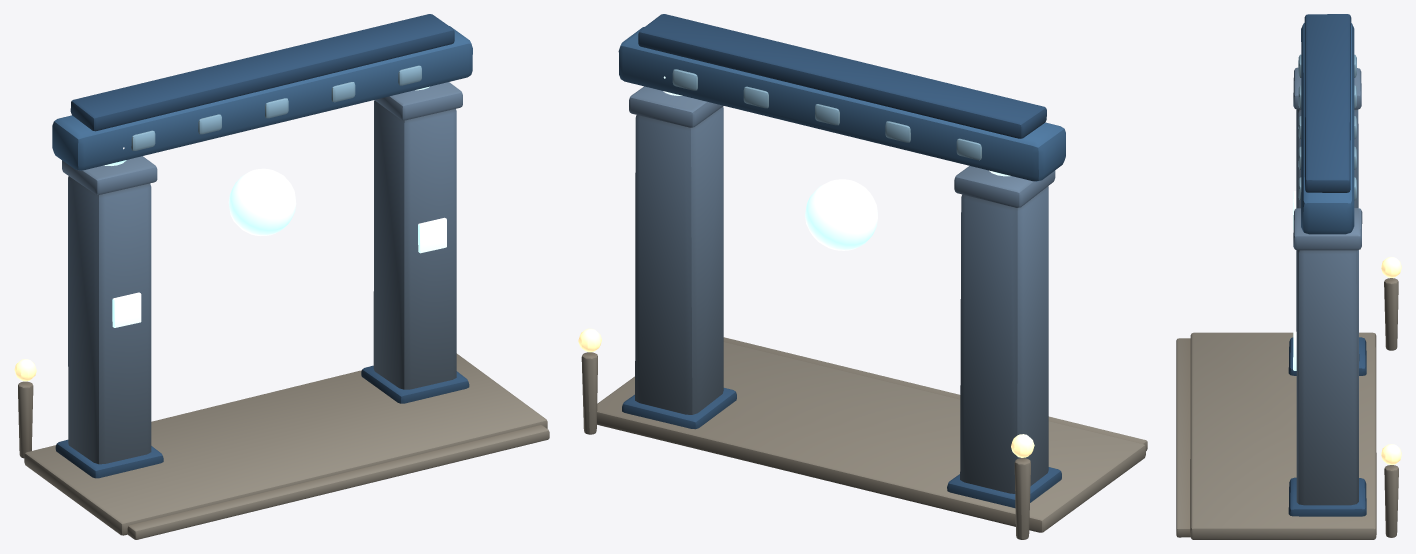
The picture shows the model from 3 angles, left to right: view 1: azimuth 30°, elevation 25°; view 2: azimuth 150°, elevation 25°; view 3: azimuth 270°, elevation 25°; orthographic projection. The views are drawn at different scales.
Parts seen in each view (by area): view 1: gate_18261f0a; view 2: gate_18261f0a; view 3: gate_18261f0a.
Part boxes in pixels (x1=…): gate_18261f0a: x1=14, y1=14, x2=549, y2=539; gate_18261f0a: x1=578, y1=14, x2=1147, y2=539; gate_18261f0a: x1=1176, y1=14, x2=1401, y2=539.
Bounding box in the file's own units: 5.26 × 4.33 × 2.55.
